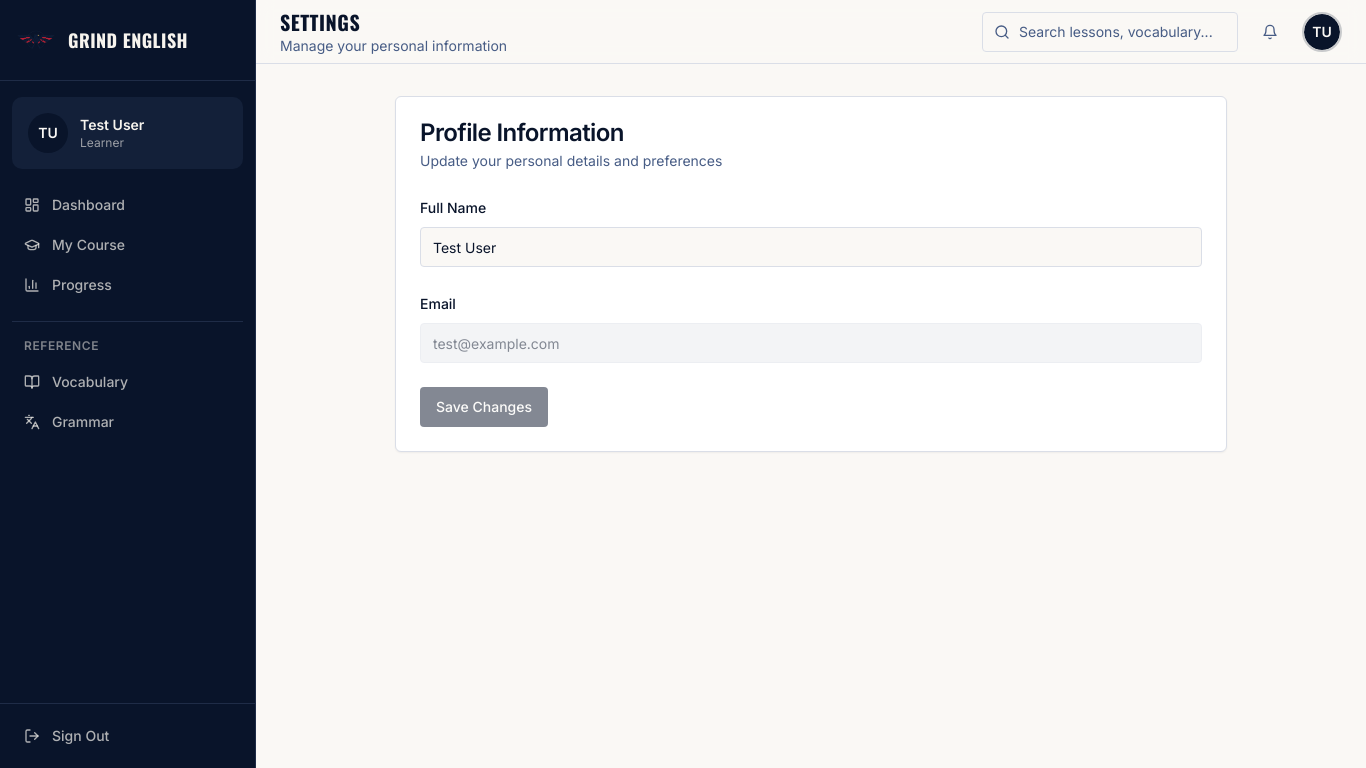
SettingsPage - Navigation Guards › Task 4.2: Navigation guard for unsaved changes › should set up beforeunload event listener for browser navigation
This screenshot has width=1366, height=768.
Modify the form to create unsaved changes
Replace the text in the field labelled "Full Name" with "Modified Name": (811, 247) top-left (420, 227), bottom-right (1202, 267)
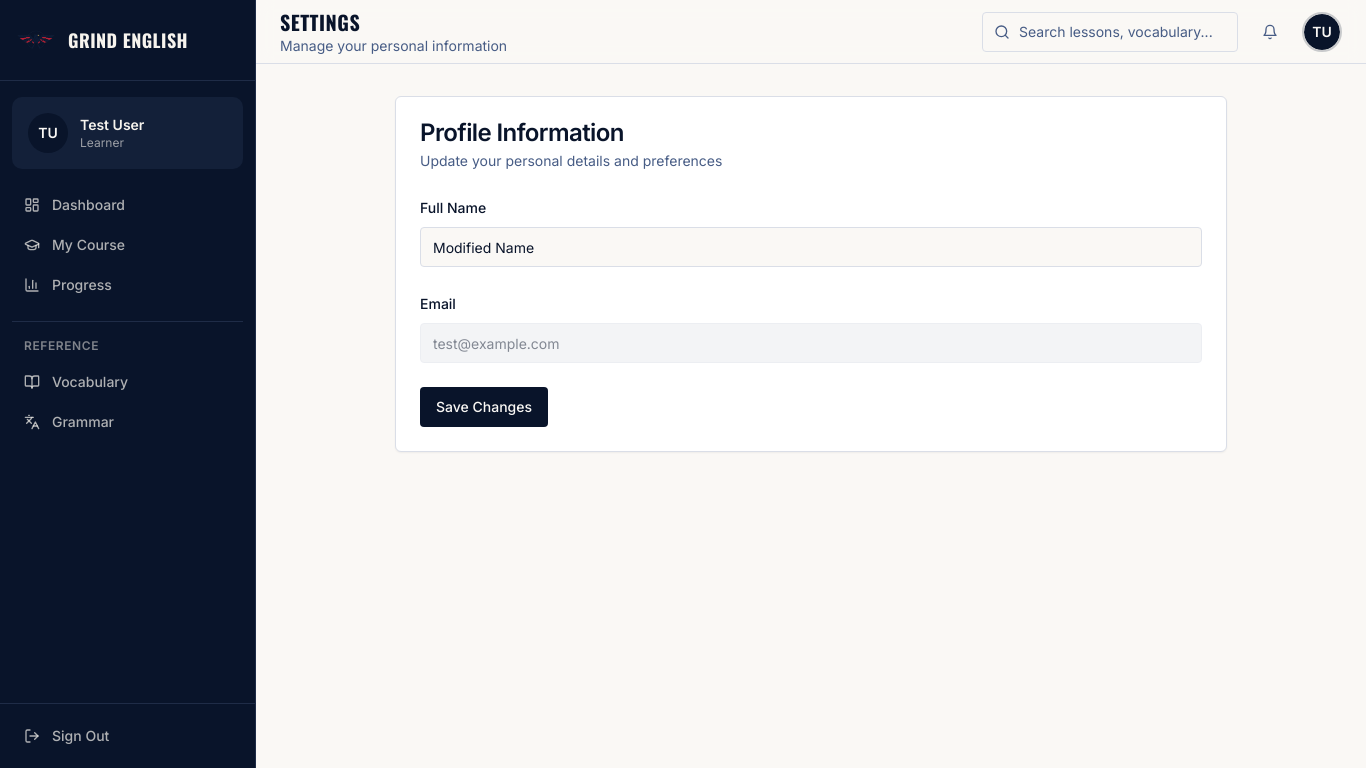
Expected: the button "Save Changes" is enabled, top-left (420, 387), bottom-right (548, 427)
